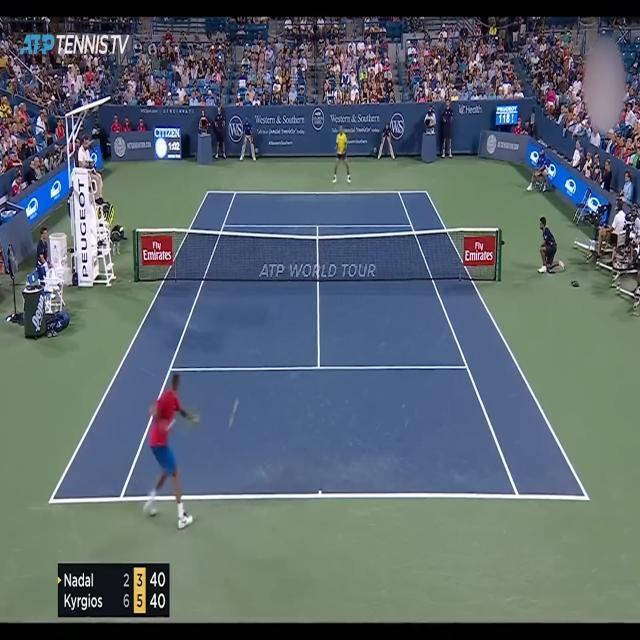court: (48, 190, 590, 506)
net: (132, 225, 506, 280)
player: (142, 368, 200, 530)
